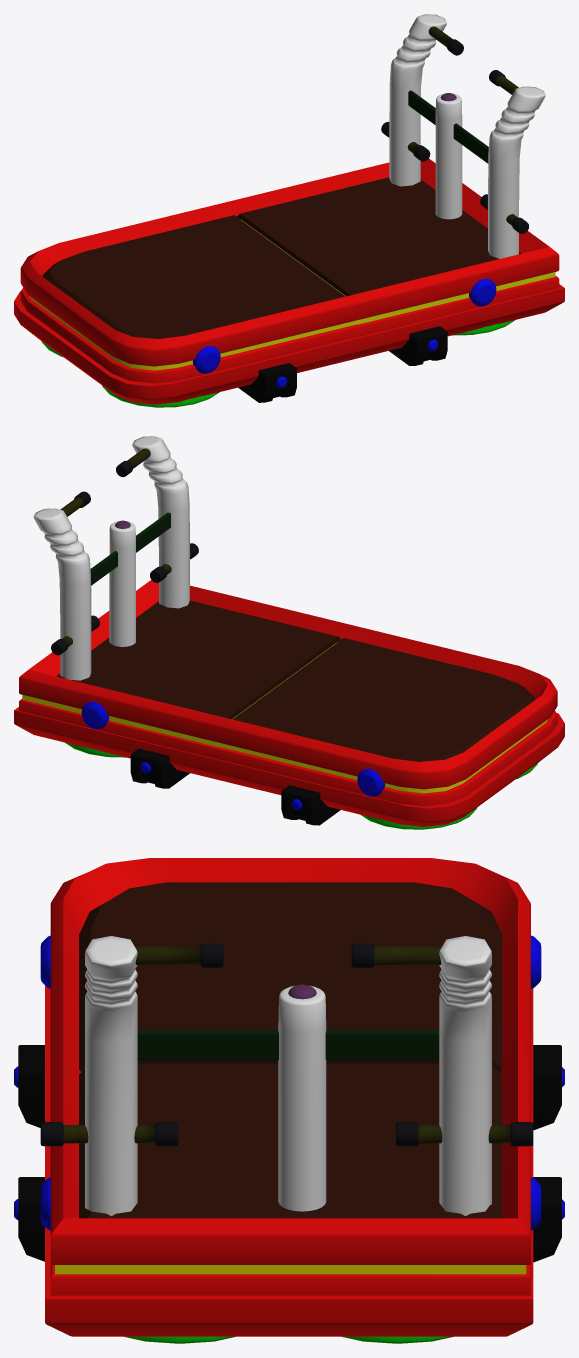
File: Trolly.fbx
3 views of the same model, one above another, from view 1: azimuth 30°, elevation 25°; view 2: azimuth 150°, elevation 25°; view 3: azimuth 270°, elevation 25° (orthographic). The views are drawn at different scales.
Parts seen in each view (by area): view 1: Trolly; view 2: Trolly; view 3: Trolly.
Part boxes in pixels (left/top/right/bottom): Trolly: left=14, top=14, right=564, bottom=407; Trolly: left=14, top=436, right=564, bottom=829; Trolly: left=14, top=858, right=564, bottom=1343.
Size of the model in its own units: 187 by 96.32 by 115.
